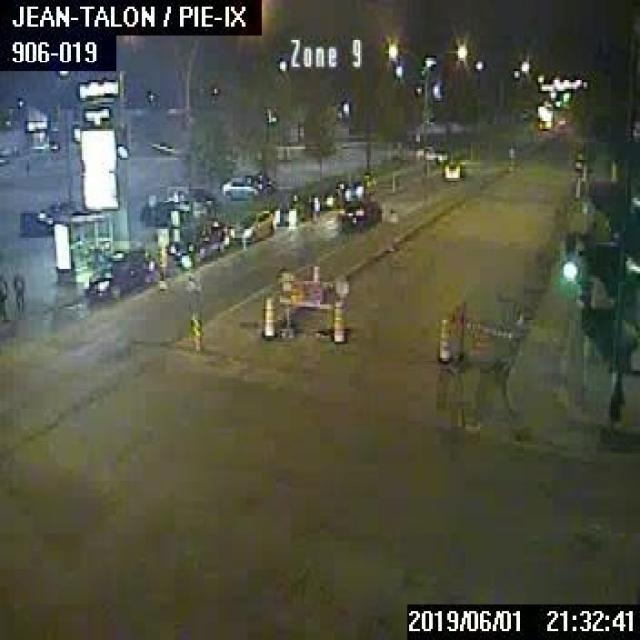construction: (276, 267, 350, 341), (449, 303, 518, 366), (259, 290, 276, 337), (435, 316, 451, 360), (328, 300, 344, 342)
pedestrian: (13, 269, 25, 320), (0, 269, 7, 320)
vehicle: (82, 250, 156, 300), (166, 220, 228, 268), (166, 185, 217, 216), (228, 208, 272, 242), (336, 198, 383, 229), (269, 192, 313, 223), (139, 198, 187, 222), (20, 208, 56, 232), (219, 174, 258, 196), (341, 173, 375, 195), (309, 185, 342, 207), (244, 171, 274, 192), (415, 144, 446, 161), (574, 150, 593, 170), (442, 158, 460, 178)
